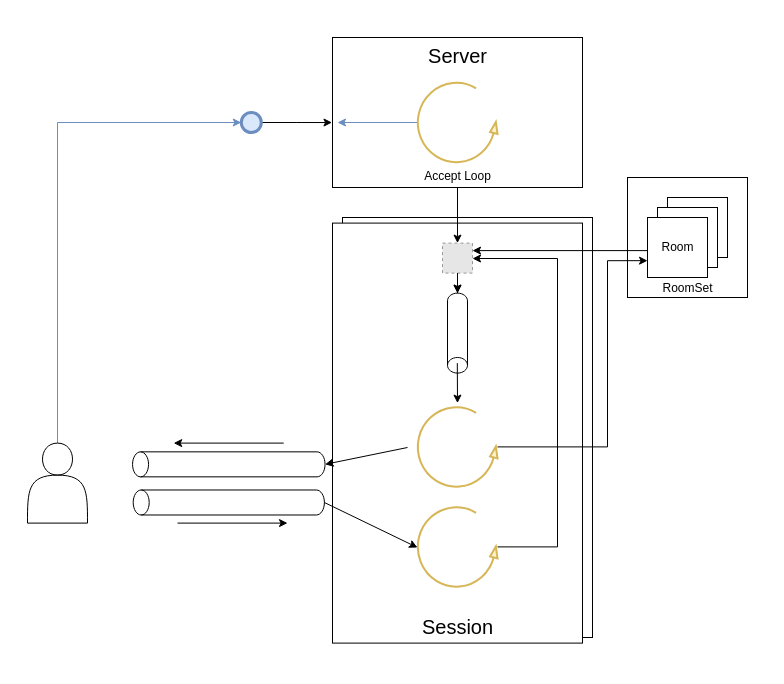
Image size: 784x684. Some labels were removed from this diagram. Grey dashed boxes stand in for pictures. Here are the shapes that lost their labels. From the top down, the box of each, then its label:
(416, 405, 498, 487): TX Coroutine
(416, 505, 498, 587): RX Coroutine
